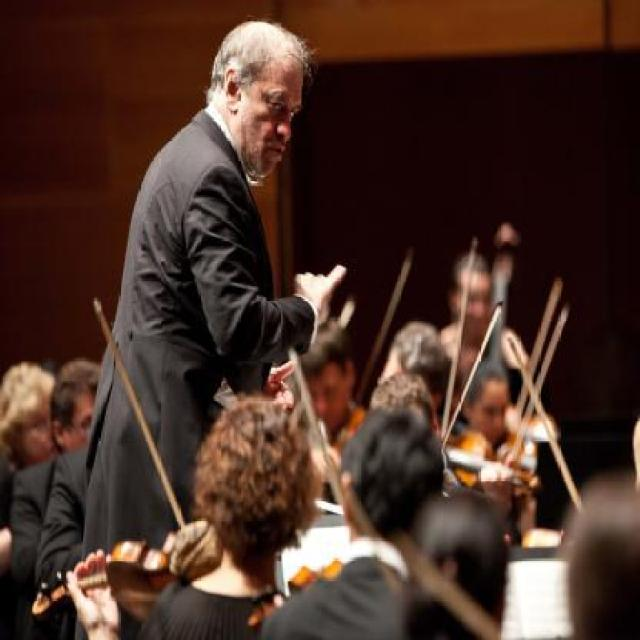Person: (0, 252, 638, 638)
